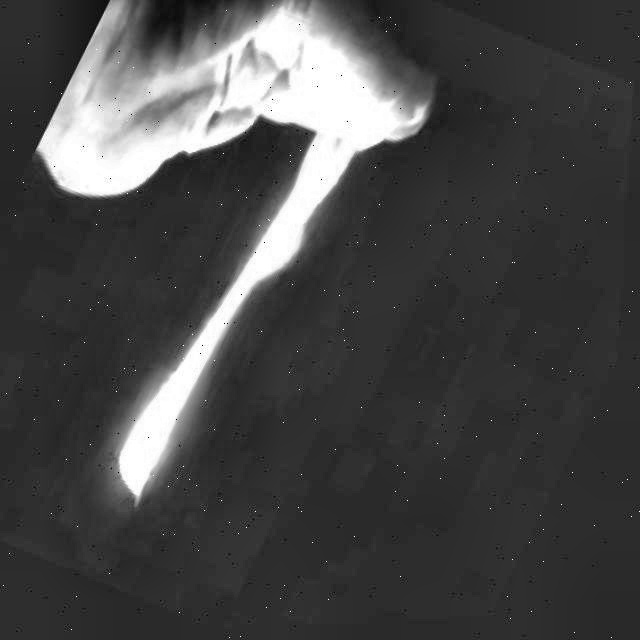Fire: (95, 67, 400, 541)
